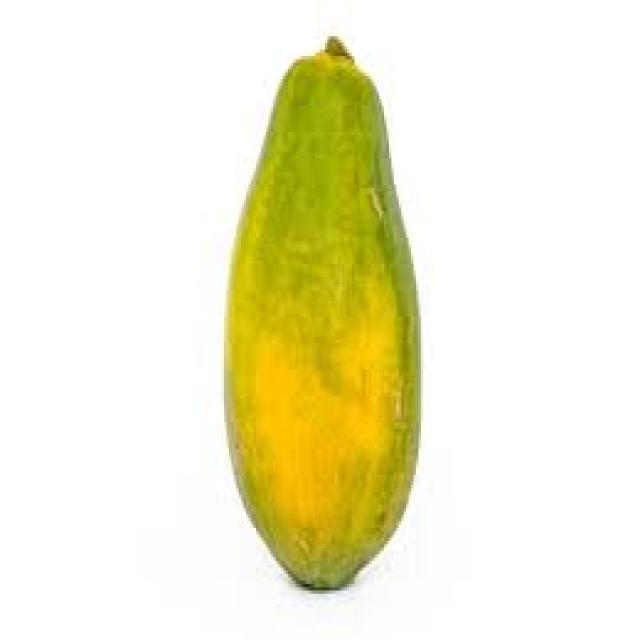Papaya: (231, 70, 426, 591)
